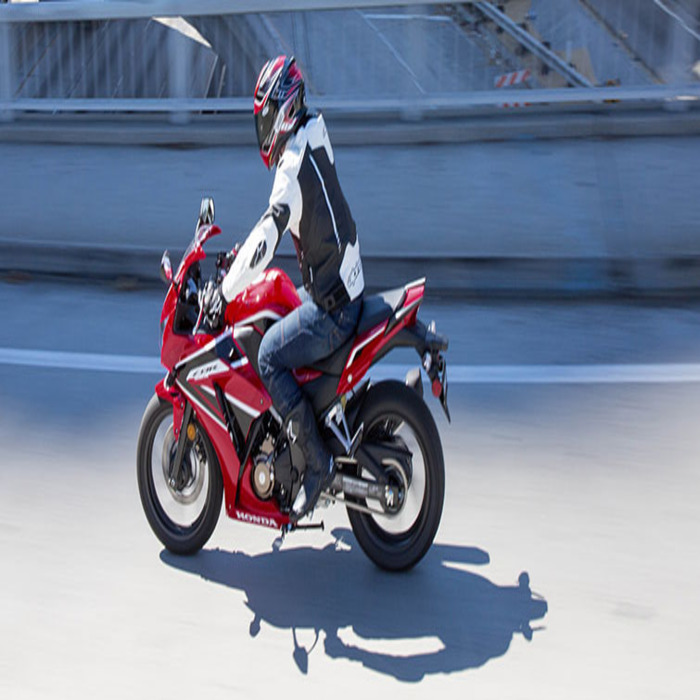h: (251, 50, 310, 175)
